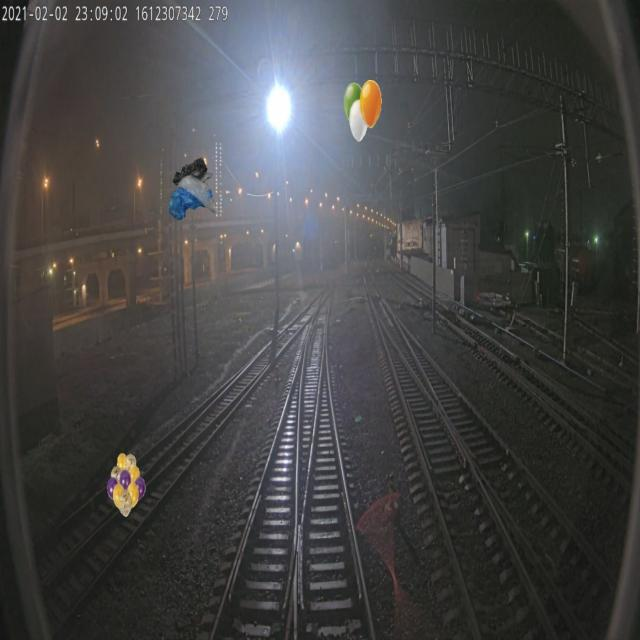balloon: (106, 452, 146, 516), (343, 80, 382, 144)
plastic bag: (169, 157, 219, 220)
